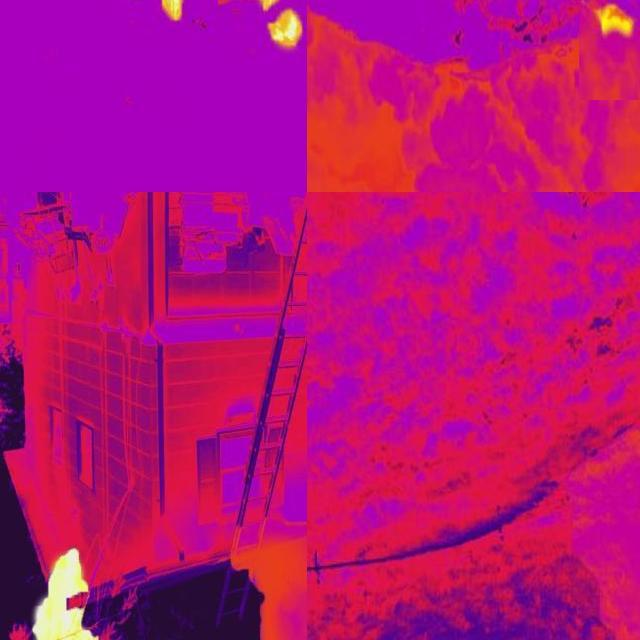fire: (24, 542, 110, 640), (257, 1, 308, 56), (592, 1, 640, 47), (149, 1, 203, 32)
